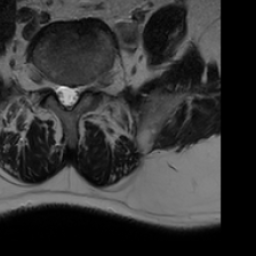CCS_normal: (64, 79, 72, 115)
LFS_stenosis: (80, 75, 88, 99)
LLS_normal: (72, 79, 80, 110)
RFS_normal: (46, 71, 56, 96)
RLS_normal: (56, 77, 64, 108)
